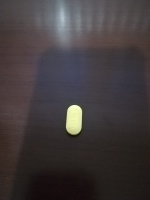Aferin: (64, 104, 83, 137)
